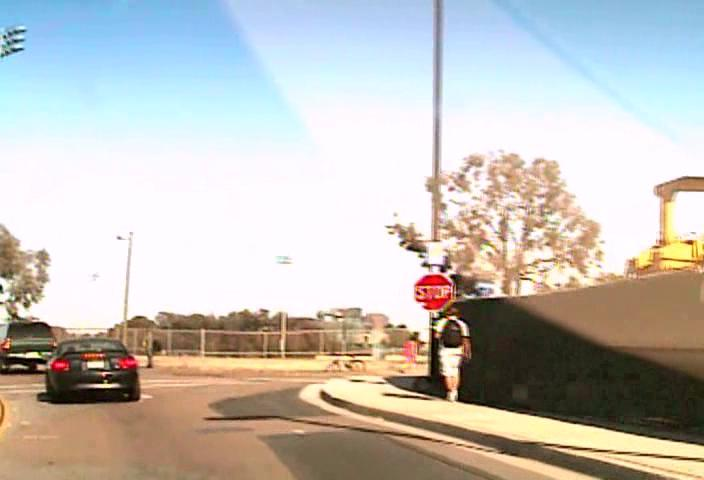stop: (412, 272, 454, 311)
